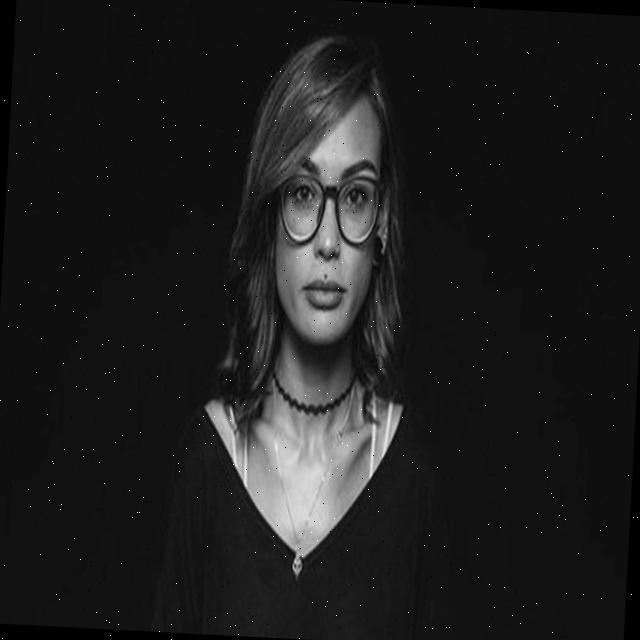Neutral: (270, 87, 384, 346)
